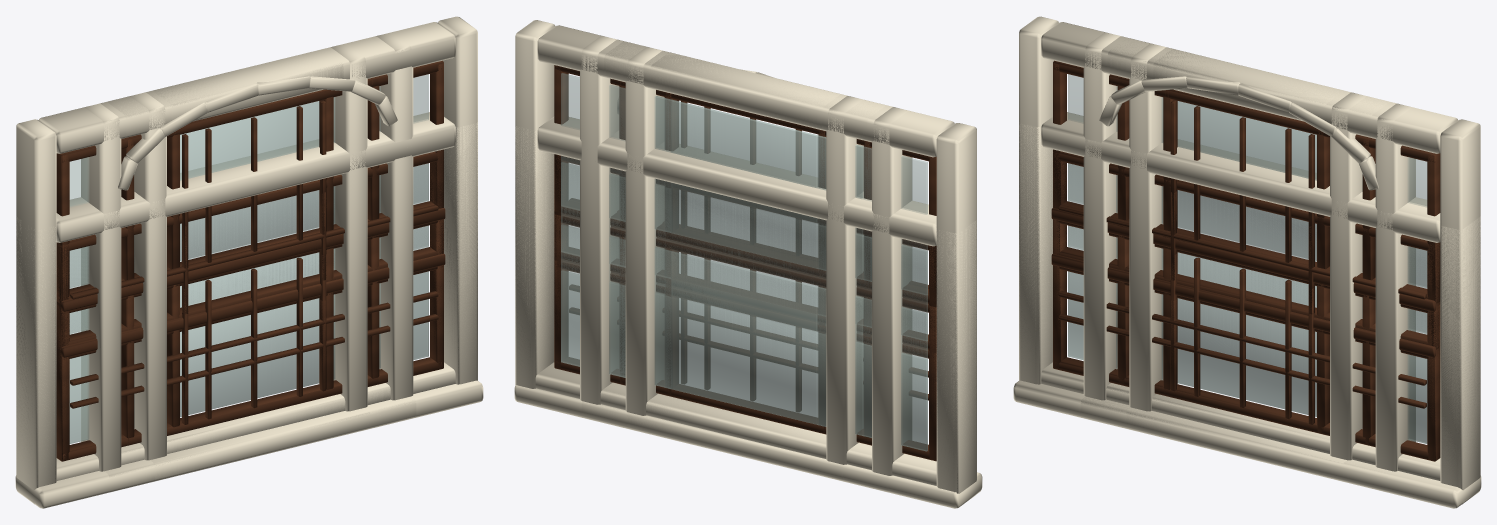
File: asset_055_clubhouse_windows_set.glb
3 renders of one model, left to right at view 1: azimuth 30°, elevation 25°; view 2: azimuth 150°, elevation 25°; view 3: azimuth 330°, elevation 25°, orthographic.
Parts seen in each view (by area): view 1: MESH_WindowStandard_LayeredCreamCasing, MESH_WindowArched_LayeredCreamCasing, MESH_WindowStandard_UpperLowerGlass, MESH_WindowNarrow_LayeredCreamCasing, MESH_WindowArched_UpperLowerGlass, MESH_WindowWide_LayeredCreamCasing, MESH_WindowWide_UpperLowerGlass, MESH_WindowStandard_WalnutDoubleSashes, MESH_WindowWide_WalnutDoubleSashes, MESH_WindowArched_WalnutDoubleSashes, MESH_WindowNarrow_WalnutDoubleSashes, MESH_WindowNarrow_UpperLowerGlass (+4 smaller); view 2: MESH_WindowStandard_UpperLowerGlass, MESH_WindowStandard_LayeredCreamCasing, MESH_WindowArched_LayeredCreamCasing, MESH_WindowArched_UpperLowerGlass, MESH_WindowNarrow_LayeredCreamCasing, MESH_WindowWide_UpperLowerGlass, MESH_WindowNarrow_UpperLowerGlass, MESH_WindowWide_LayeredCreamCasing, MESH_WindowStandard_WalnutDoubleSashes, MESH_WindowNarrow_WalnutDoubleSashes, MESH_WindowWide_WalnutDoubleSashes, MESH_WindowArched_WalnutDoubleSashes (+4 smaller); view 3: MESH_WindowStandard_LayeredCreamCasing, MESH_WindowArched_LayeredCreamCasing, MESH_WindowNarrow_LayeredCreamCasing, MESH_WindowStandard_UpperLowerGlass, MESH_WindowWide_LayeredCreamCasing, MESH_WindowNarrow_UpperLowerGlass, MESH_WindowStandard_WalnutDoubleSashes, MESH_WindowArched_UpperLowerGlass, MESH_WindowWide_WalnutDoubleSashes, MESH_WindowArched_WalnutDoubleSashes, MESH_WindowWide_UpperLowerGlass, MESH_WindowNarrow_WalnutDoubleSashes (+4 smaller).
Boxes of the visible parts, bbox=[...] form: MESH_WindowStandard_LayeredCreamCasing: bbox=[15, 16, 483, 508]; MESH_WindowArched_LayeredCreamCasing: bbox=[81, 32, 416, 492]; MESH_WindowStandard_UpperLowerGlass: bbox=[69, 74, 428, 443]; MESH_WindowNarrow_LayeredCreamCasing: bbox=[130, 43, 369, 479]; MESH_WindowArched_UpperLowerGlass: bbox=[180, 97, 334, 416]; MESH_WindowWide_LayeredCreamCasing: bbox=[16, 112, 477, 489]; MESH_WindowWide_UpperLowerGlass: bbox=[69, 163, 428, 443]; MESH_WindowStandard_WalnutDoubleSashes: bbox=[56, 60, 445, 461]; MESH_WindowWide_WalnutDoubleSashes: bbox=[56, 151, 445, 460]; MESH_WindowArched_WalnutDoubleSashes: bbox=[121, 78, 379, 445]; MESH_WindowNarrow_WalnutDoubleSashes: bbox=[167, 89, 333, 434]; MESH_WindowNarrow_UpperLowerGlass: bbox=[180, 101, 318, 400]; MESH_WindowStandard_UpperLowerGlass: bbox=[561, 73, 927, 451]; MESH_WindowStandard_LayeredCreamCasing: bbox=[514, 20, 982, 508]; MESH_WindowArched_LayeredCreamCasing: bbox=[580, 36, 912, 492]; MESH_WindowArched_UpperLowerGlass: bbox=[655, 96, 862, 435]; MESH_WindowNarrow_LayeredCreamCasing: bbox=[625, 47, 863, 480]; MESH_WindowWide_UpperLowerGlass: bbox=[561, 162, 927, 451]; MESH_WindowNarrow_UpperLowerGlass: bbox=[671, 100, 817, 422]; MESH_WindowWide_LayeredCreamCasing: bbox=[515, 116, 976, 503]; MESH_WindowStandard_WalnutDoubleSashes: bbox=[554, 65, 936, 461]; MESH_WindowNarrow_WalnutDoubleSashes: bbox=[664, 92, 826, 433]; MESH_WindowWide_WalnutDoubleSashes: bbox=[554, 155, 936, 459]; MESH_WindowArched_WalnutDoubleSashes: bbox=[619, 81, 871, 443]; MESH_WindowStandard_LayeredCreamCasing: bbox=[1013, 16, 1481, 508]; MESH_WindowArched_LayeredCreamCasing: bbox=[1080, 32, 1415, 492]; MESH_WindowNarrow_LayeredCreamCasing: bbox=[1126, 43, 1366, 479]; MESH_WindowStandard_UpperLowerGlass: bbox=[1068, 74, 1427, 443]; MESH_WindowWide_LayeredCreamCasing: bbox=[1019, 112, 1480, 501]; MESH_WindowNarrow_UpperLowerGlass: bbox=[1178, 101, 1316, 416]; MESH_WindowStandard_WalnutDoubleSashes: bbox=[1051, 60, 1440, 461]; MESH_WindowArched_UpperLowerGlass: bbox=[1162, 97, 1316, 416]; MESH_WindowWide_WalnutDoubleSashes: bbox=[1051, 151, 1440, 461]; MESH_WindowArched_WalnutDoubleSashes: bbox=[1117, 77, 1375, 445]; MESH_WindowWide_UpperLowerGlass: bbox=[1068, 163, 1427, 443]; MESH_WindowNarrow_WalnutDoubleSashes: bbox=[1163, 89, 1329, 434].
Bounding box in the file's own units: 2.19 × 1.74 × 0.23.
Materials: 4 (1 with a texture image).
